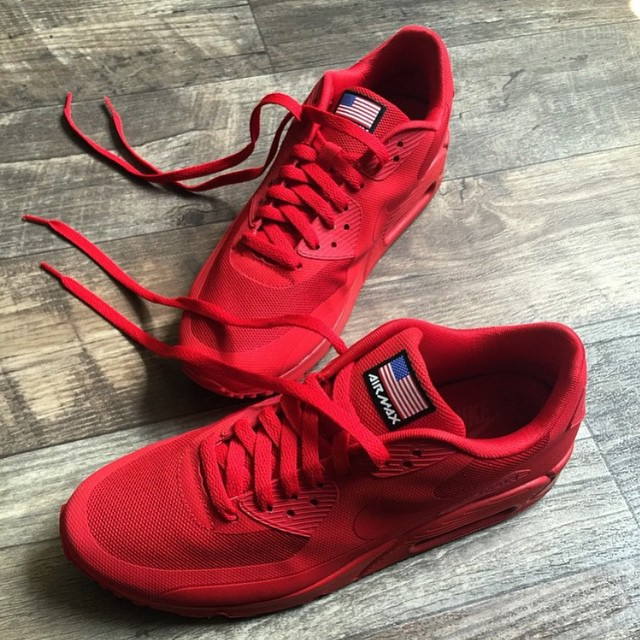sneaker: (37, 287, 598, 635), (147, 18, 477, 418)
